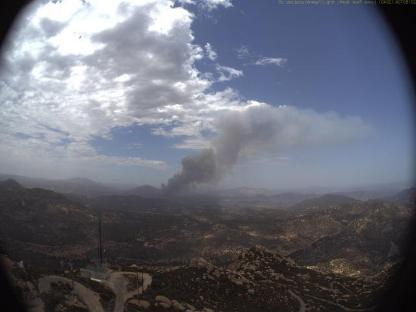smoke: (146, 102, 352, 204)
